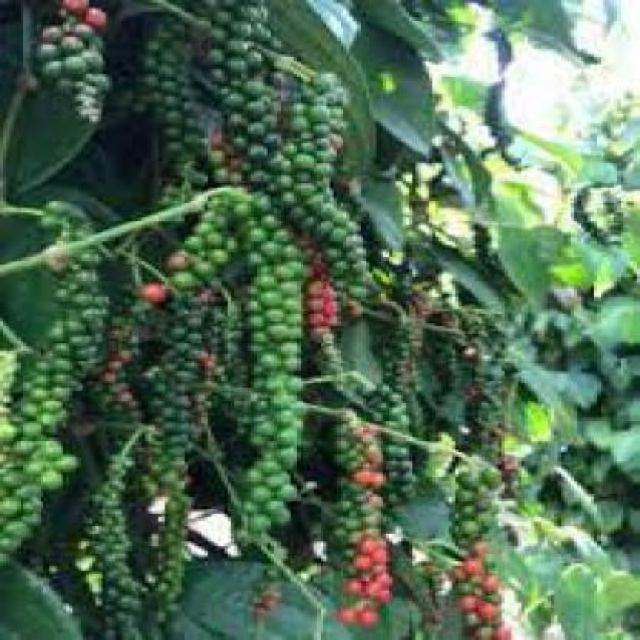RIPE: (329, 517, 389, 625), (452, 557, 505, 638)
UNRIPE: (208, 186, 303, 551), (14, 205, 83, 534), (155, 245, 208, 586), (288, 74, 369, 269), (439, 282, 519, 428), (198, 3, 271, 154), (93, 425, 142, 620)
